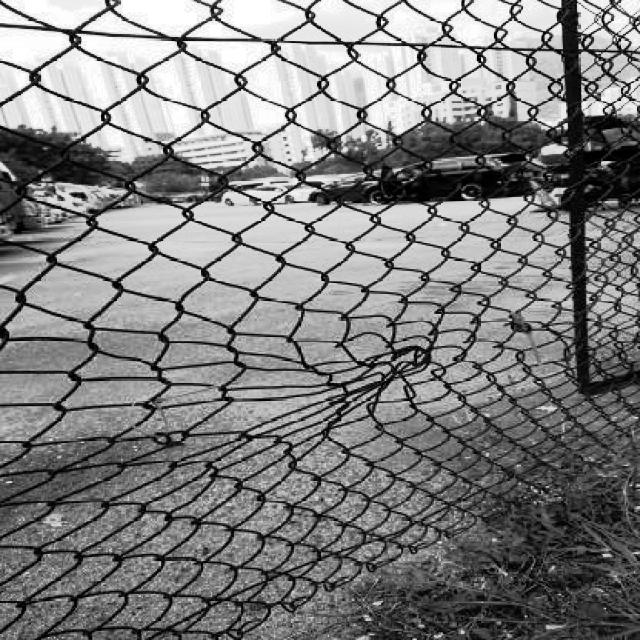anomaly-fence: (6, 314, 532, 428)
